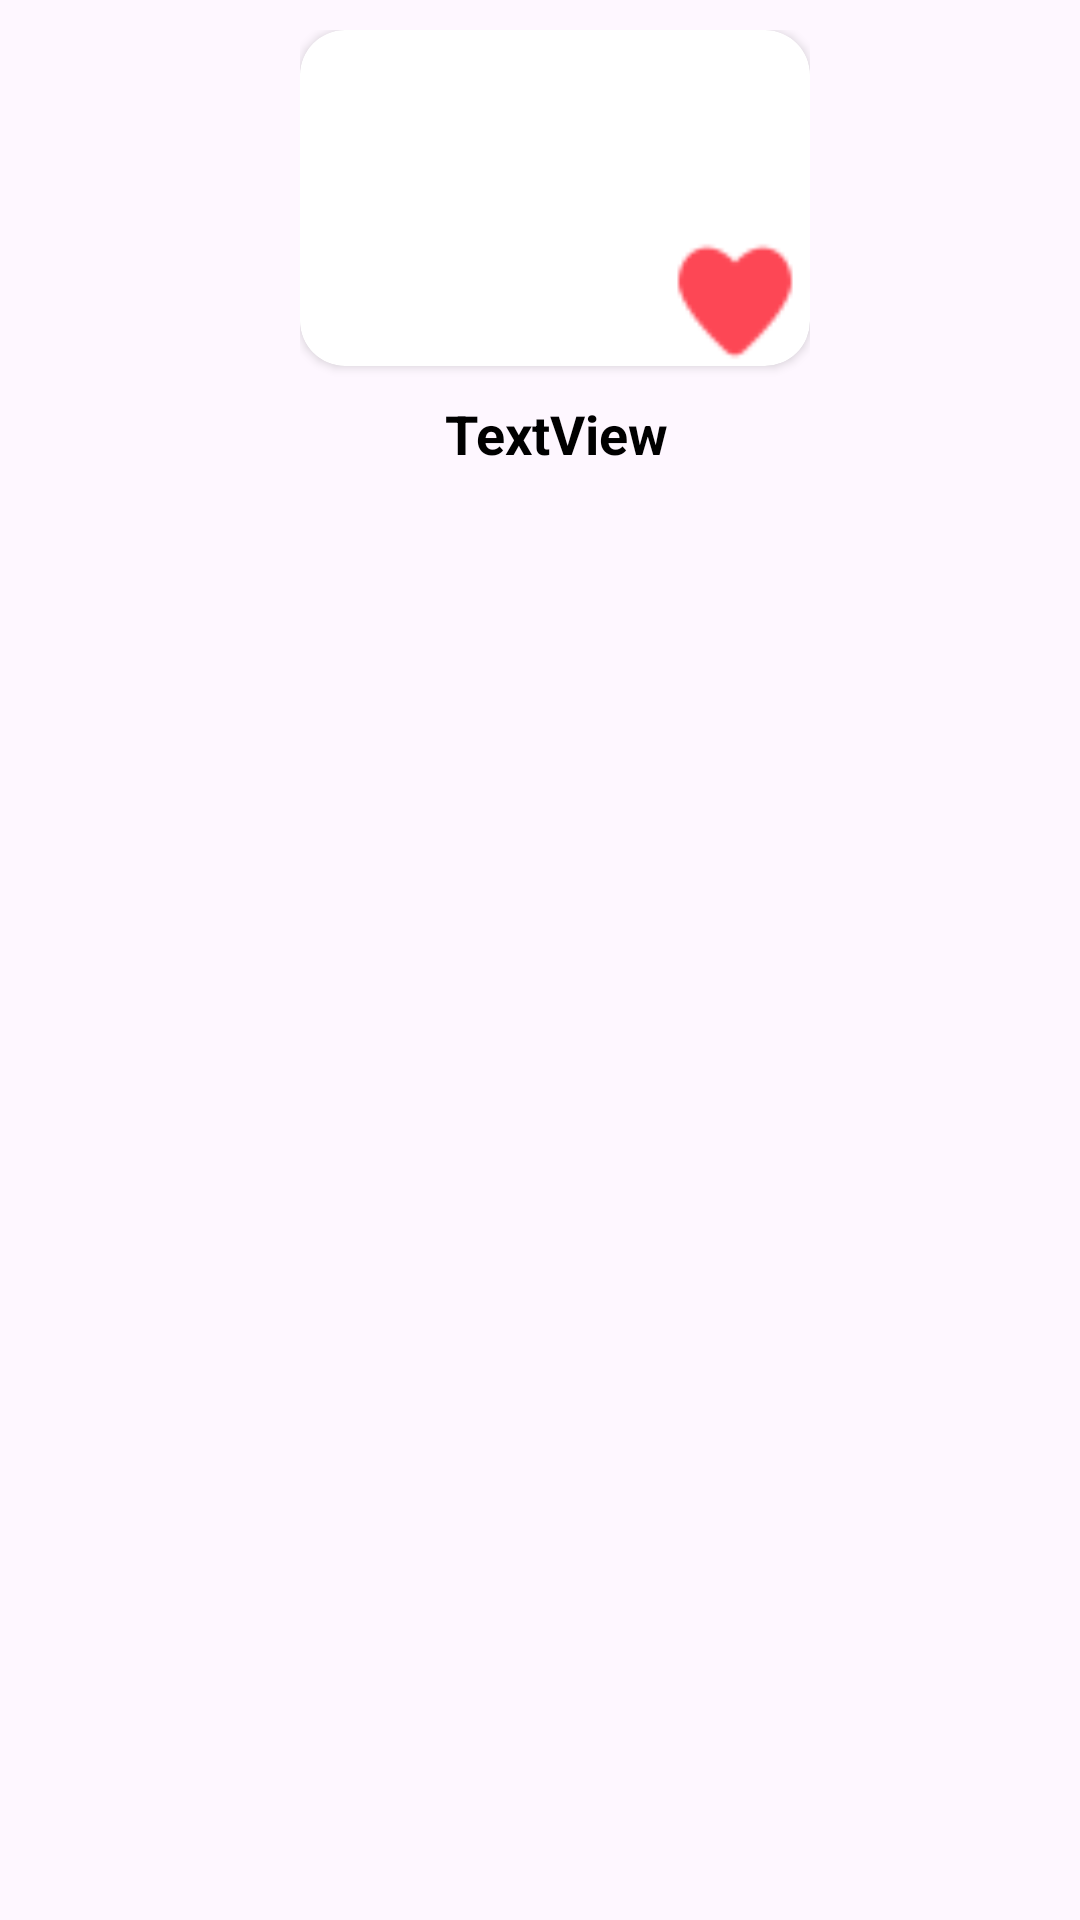

Point at icon controls on the screen. Image size 1080x1920, points as point (x, y).
like: point (735, 301)
